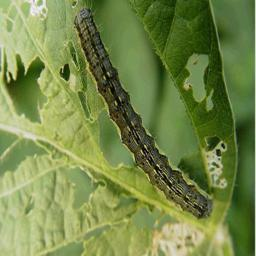Tobacco_budworm: (74, 7, 212, 220)
